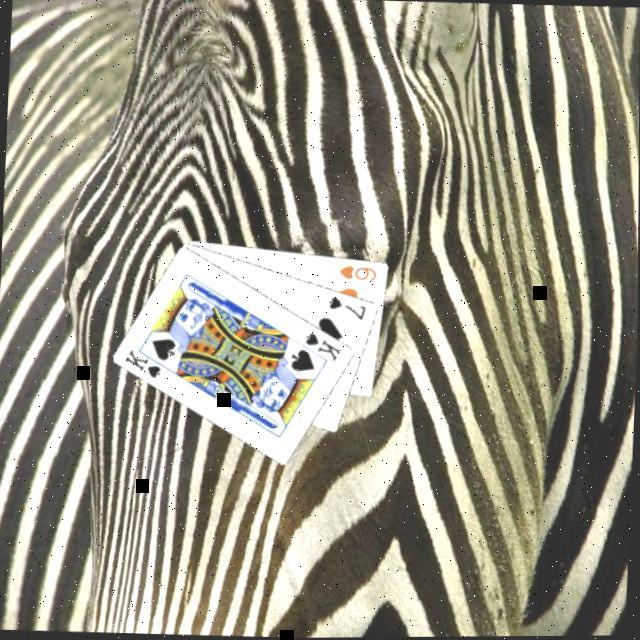6H: (334, 259, 379, 282)
7S: (324, 291, 369, 321)
KS: (119, 343, 170, 379), (300, 327, 343, 362)
